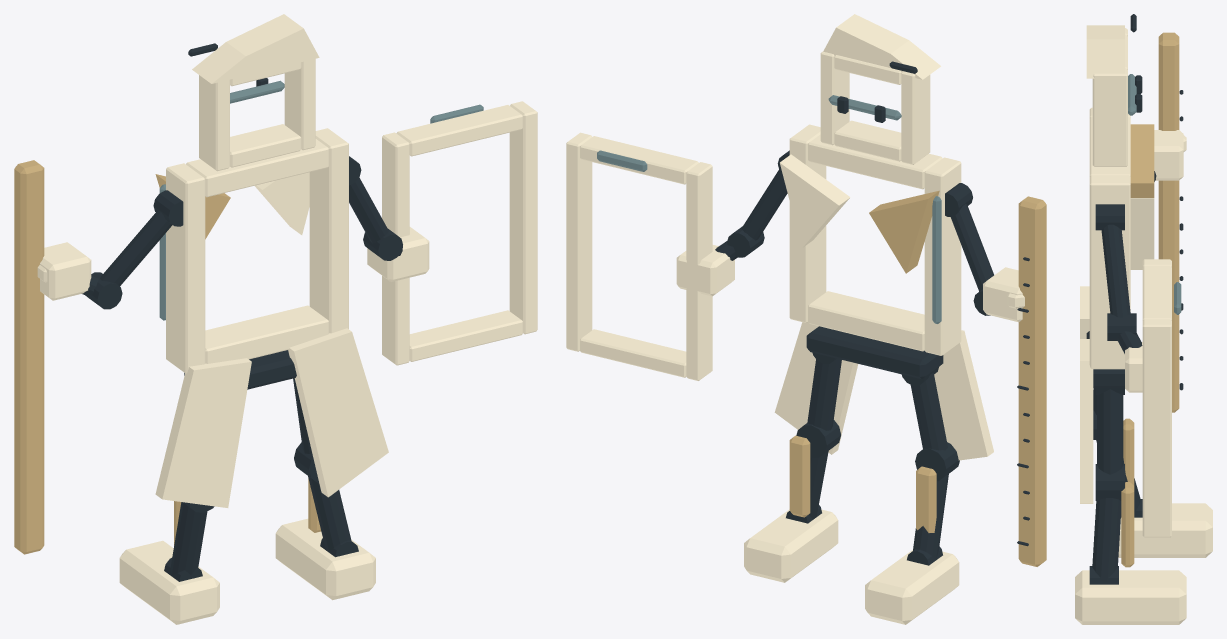
3 views of the same model, side by side, from view 1: azimuth 30°, elevation 25°; view 2: azimuth 150°, elevation 25°; view 3: azimuth 270°, elevation 25° (orthographic). The views are drawn at different scales.
Visible parts, largest first — view 1: ruling_edge, right_tail, left_tail, open_body_L, open_body_R, margin_tool_R, margin_tool_L, L_shoe, R_shoe, folded_crown, open_body_B, open_body_T (+17 smaller); view 2: ruling_edge, margin_tool_R, open_body_L, margin_tool_L, L_shoe, R_shoe, left_tail, open_body_B, open_body_R, waist_rule, folded_crown, right_tail (+24 smaller); view 3: margin_tool_R, R_shoe, open_body_R, ruling_edge, empty_head_R, L_shoe, right_tail, R_thigh, R_shin, folded_crown, R_upper, left_lapel (+16 smaller).
Boxes of the visible parts, <box> form: ruling_edge: <box>14,160,44,554</box>; right_tail: <box>288,328,388,497</box>; left_tail: <box>155,358,251,507</box>; open_body_L: <box>166,163,205,373</box>; open_body_R: <box>309,128,348,333</box>; margin_tool_R: <box>509,101,537,334</box>; margin_tool_L: <box>382,132,409,365</box>; L_shoe: <box>119,540,219,624</box>; R_shoe: <box>275,518,375,600</box>; folded_crown: <box>192,14,319,83</box>; open_body_B: <box>205,305,328,363</box>; open_body_T: <box>186,139,328,197</box>; ruling_edge: <box>1018,196,1046,566</box>; margin_tool_R: <box>566,132,592,351</box>; open_body_L: <box>924,157,961,355</box>; margin_tool_L: <box>686,162,712,380</box>; L_shoe: <box>865,550,959,624</box>; R_shoe: <box>744,509,838,582</box>; left_tail: <box>934,330,993,460</box>; open_body_B: <box>808,291,924,351</box>; open_body_R: <box>789,124,826,322</box>; waist_rule: <box>806,326,943,379</box>; folded_crown: <box>823,14,940,79</box>; right_tail: <box>774,322,858,454</box>; margin_tool_R: <box>1142,319,1171,537</box>; R_shoe: <box>1075,570,1186,624</box>; open_body_R: <box>1089,175,1130,369</box>; ruling_edge: <box>1158,32,1179,412</box>; empty_head_R: <box>1092,68,1127,166</box>; L_shoe: <box>1118,503,1212,557</box>; right_tail: <box>1080,339,1093,503</box>; R_thigh: <box>1097,389,1123,474</box>; R_shin: <box>1092,498,1121,581</box>; folded_crown: <box>1086,25,1124,78</box>; R_upper: <box>1101,224,1130,317</box>; left_lapel: <box>1130,124,1154,197</box>.
Bounding box in the file's own units: 1.92 × 2.09 × 0.47.
